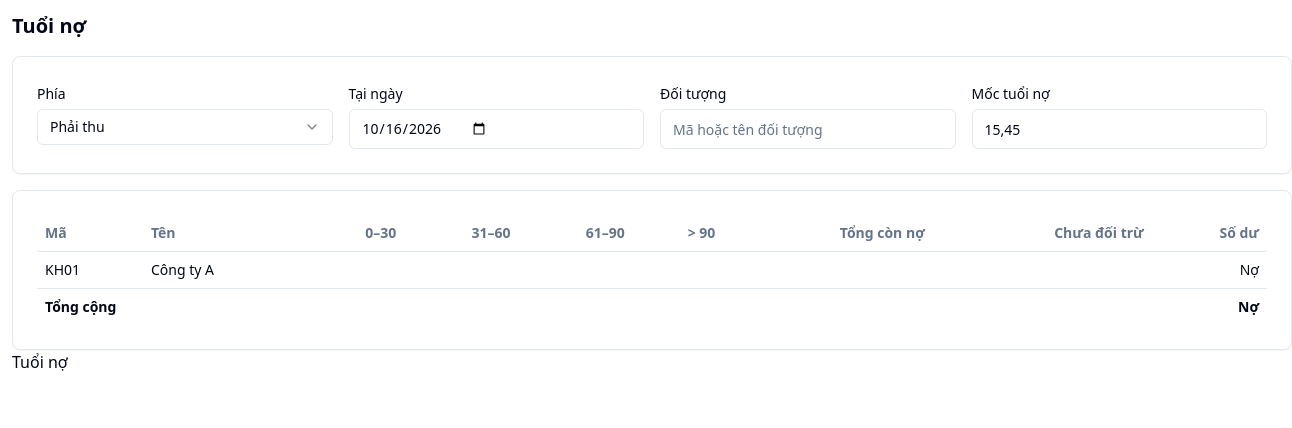
Test: DebtAgingPage › re-syncs the input and clears the typed error when the url buckets change under a mounted page
Replace the text in the field labelled "Mốc tuổi nợ" with "45,15" at (1119, 129), box [972,109,1267,149]
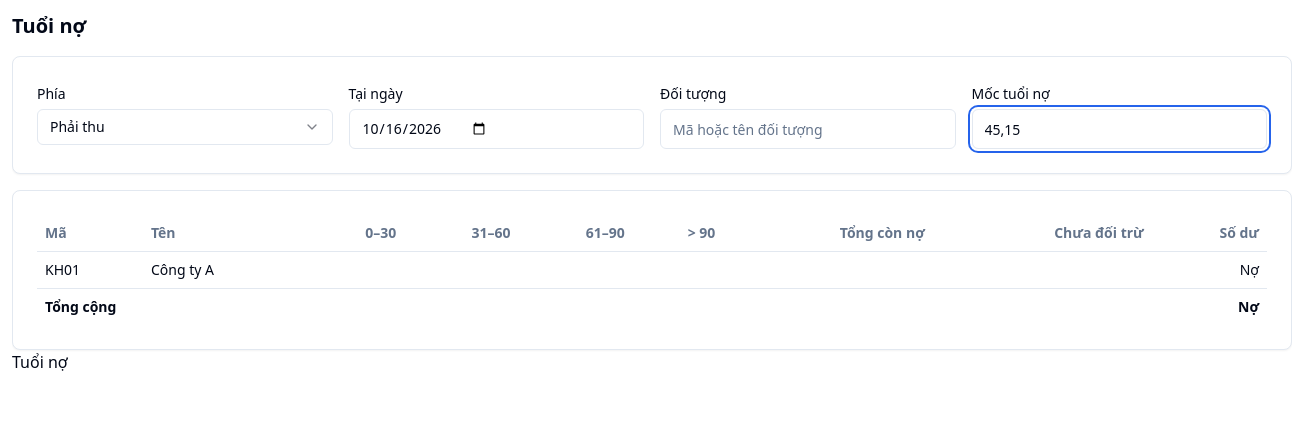
Press Tab
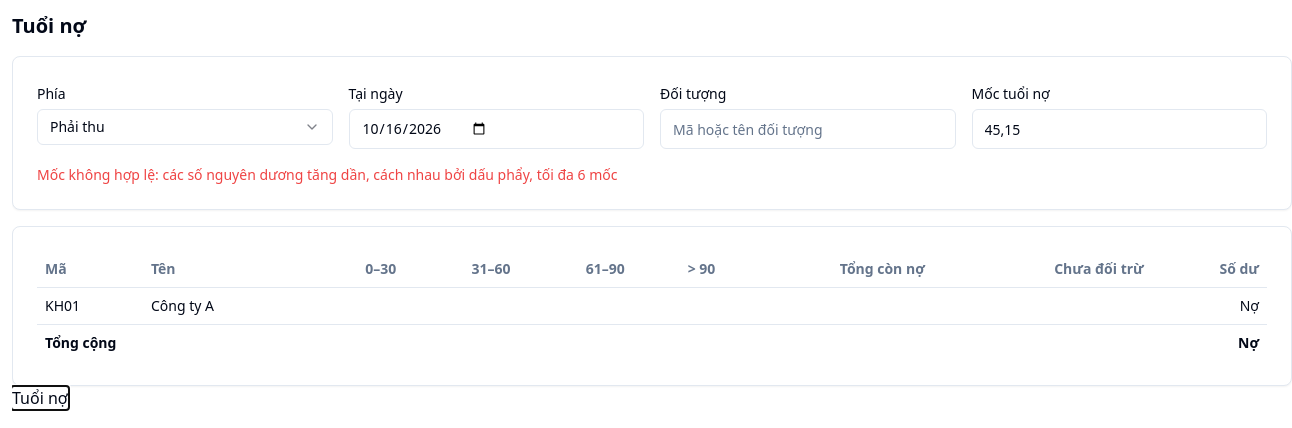
Expected: the text "Mốc không hợp lệ: các số nguyên dương tăng dần, cách nhau bởi dấu phẩy, tối đa 6 mốc" is shown, [37,165,618,184]
Click the link "Tuổi nợ".
click(40, 398)  # box [12,387,68,409]
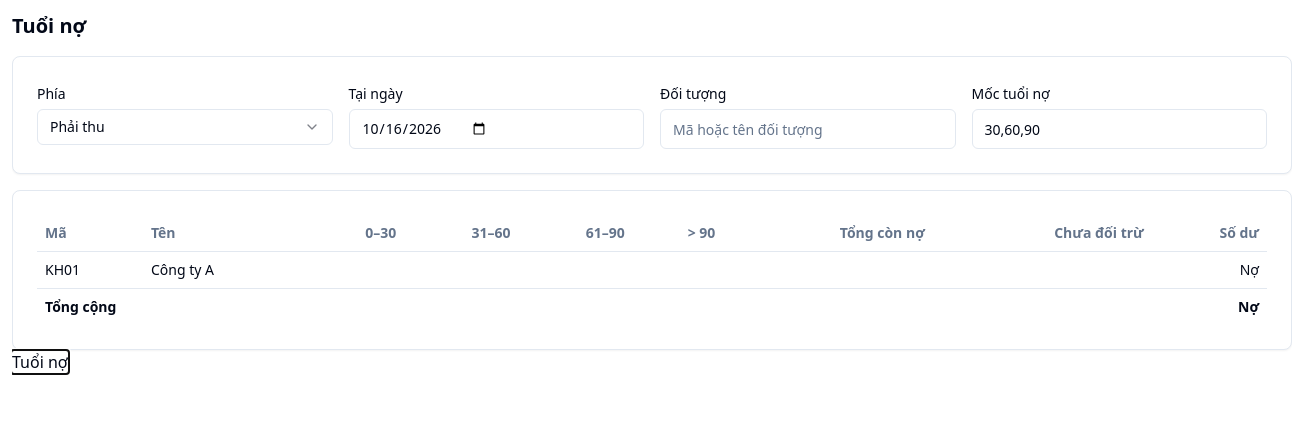
Expected: the field labelled "Mốc tuổi nợ" holds "30,60,90", [972,109,1267,149]
Expected: the text "Mốc không hợp lệ: các số nguyên dương tăng dần, cách nhau bởi dấu phẩy, tối đa 6 mốc" is gone
